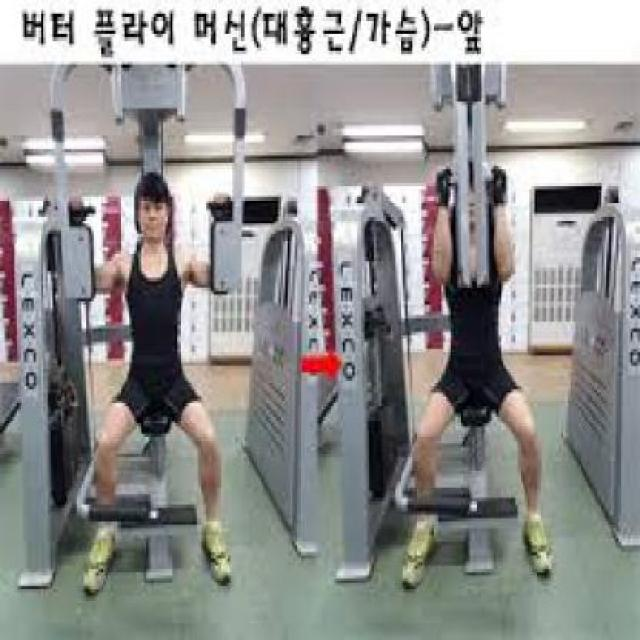chest fly machine: (35, 57, 266, 609), (371, 55, 572, 608)
